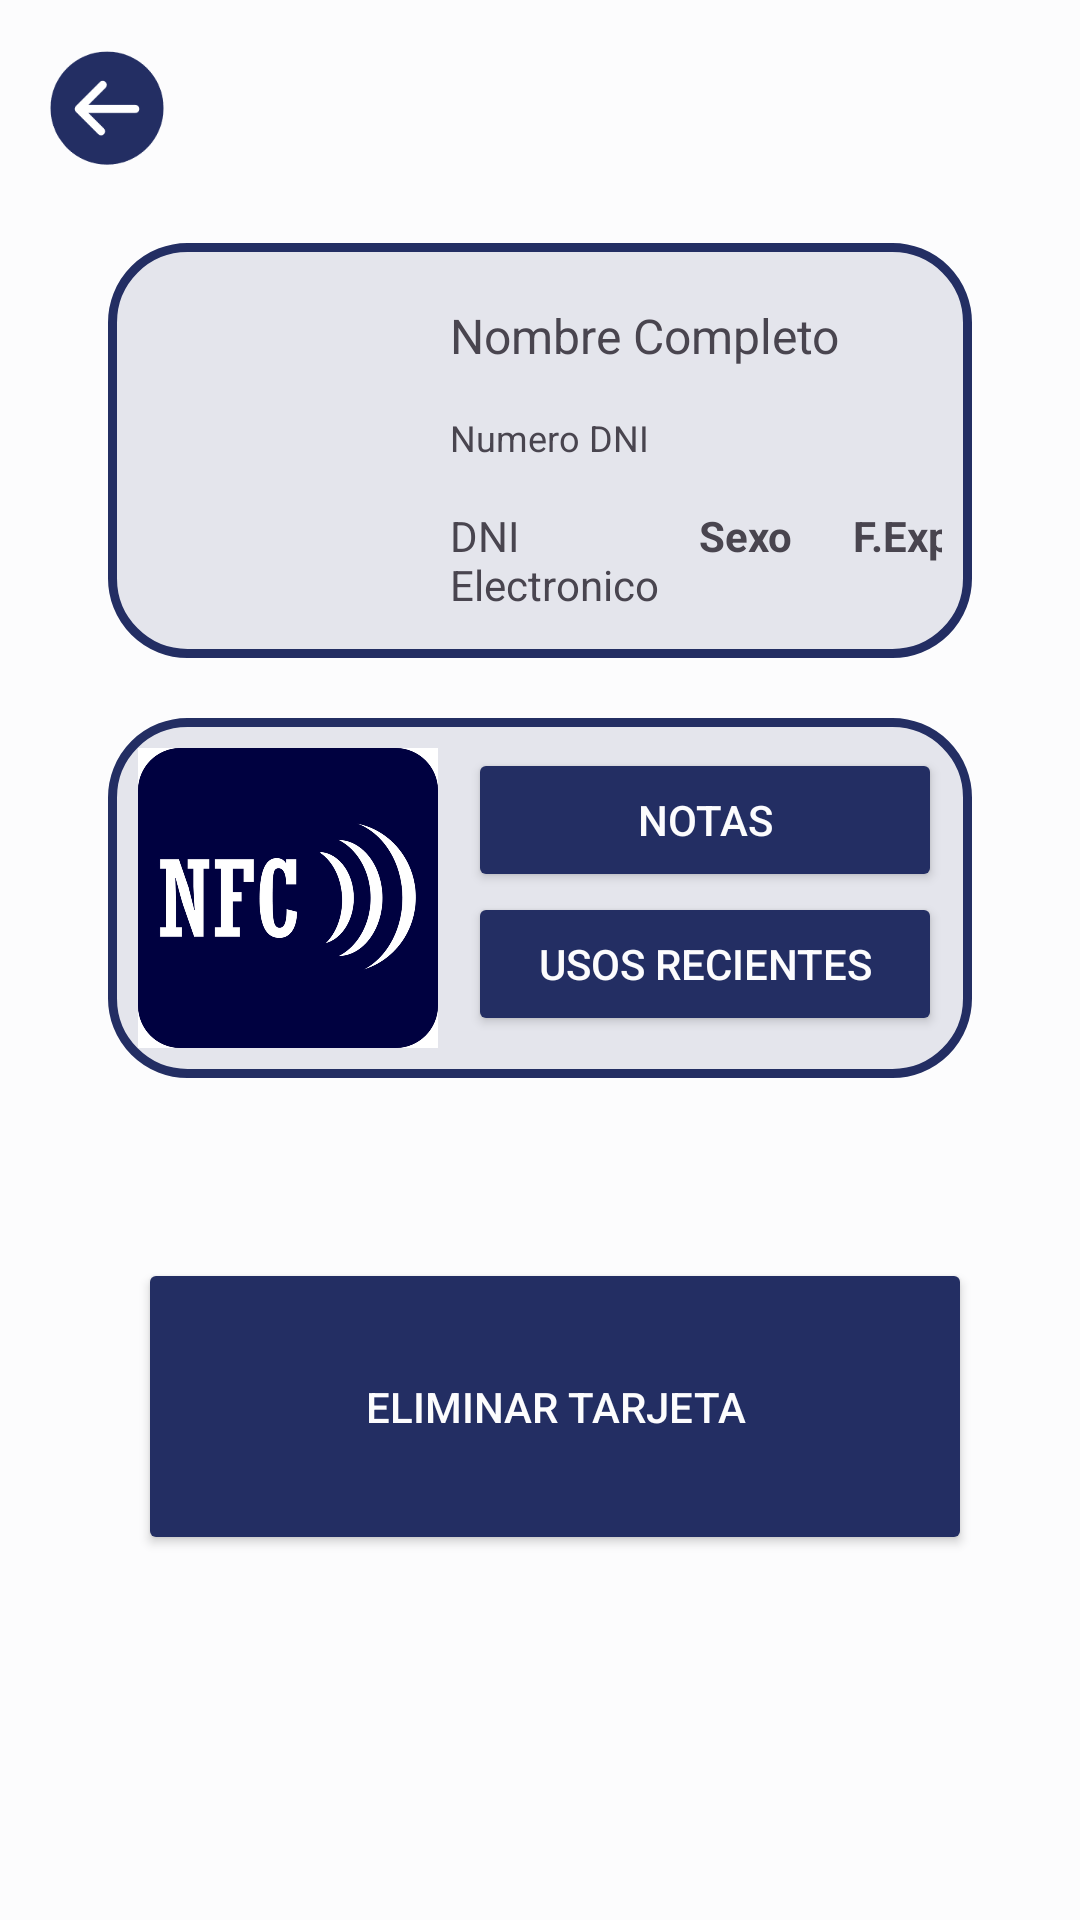

Screen size 1080 x 1920. Icon name, then its box in pixels as (x1, y1, x2, y2):
goback: (50, 51, 164, 165)
